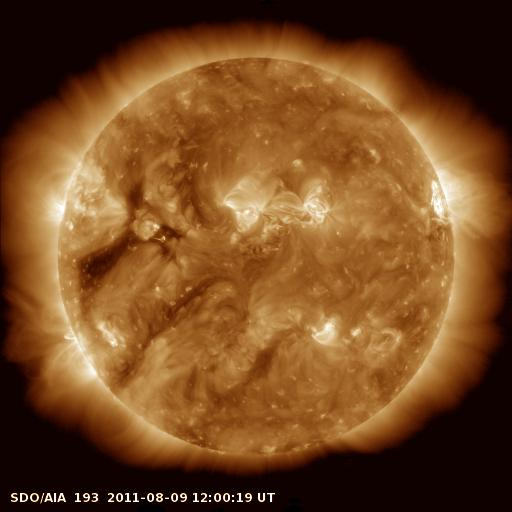coronal_hole: (82, 178, 146, 289)
